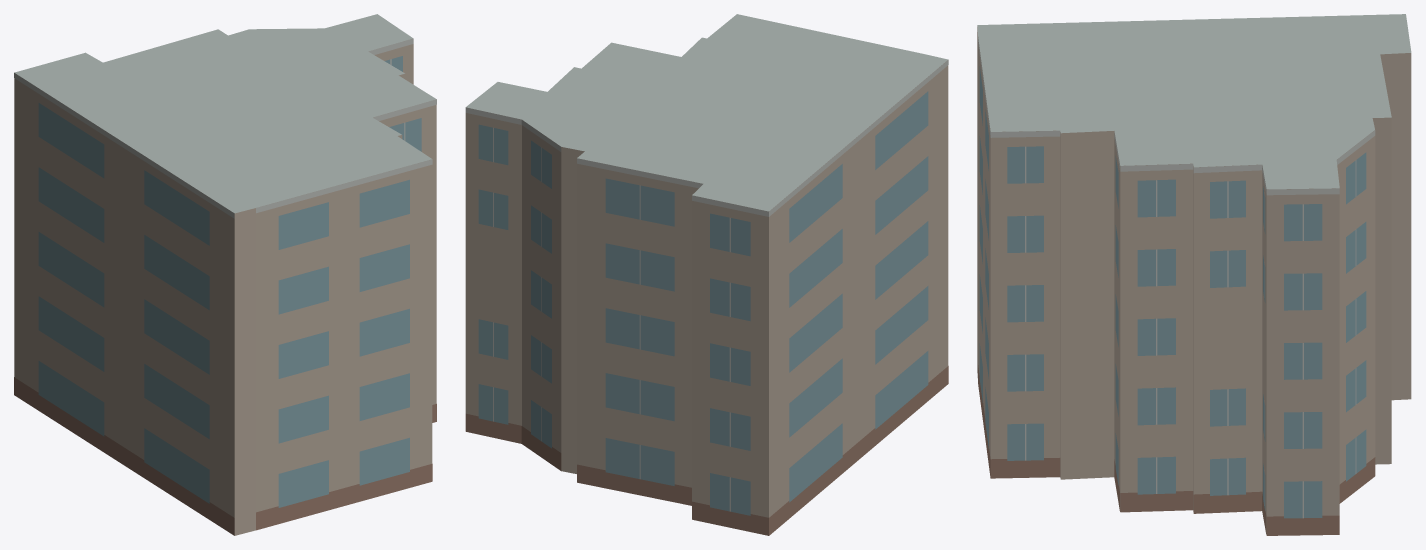
The model's file is survey-upis-32910336.glb.
The picture shows the model from 3 angles, left to right: view 1: azimuth 30°, elevation 25°; view 2: azimuth 150°, elevation 25°; view 3: azimuth 270°, elevation 25°; orthographic projection. The views are drawn at different scales.
Parts seen in each view (by area): view 1: survey-upis-32910336.tmp; view 2: survey-upis-32910336.tmp; view 3: survey-upis-32910336.tmp.
Boxes of the visible parts, box(x1,y1,x2,y2) form: survey-upis-32910336.tmp: box(14, 14, 436, 535); survey-upis-32910336.tmp: box(465, 14, 948, 535); survey-upis-32910336.tmp: box(977, 14, 1411, 535).
Bounding box in the file's own units: 15.75 × 14.5 × 16.47.
